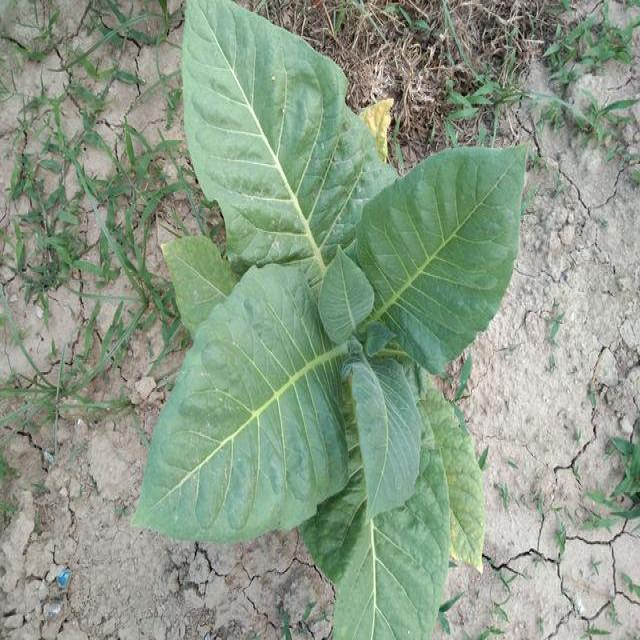crop: (134, 0, 526, 640)
